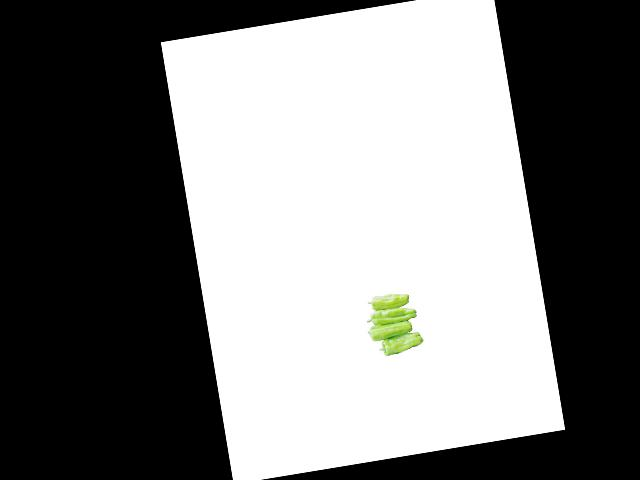bell_pepper: (375, 330, 428, 357)
